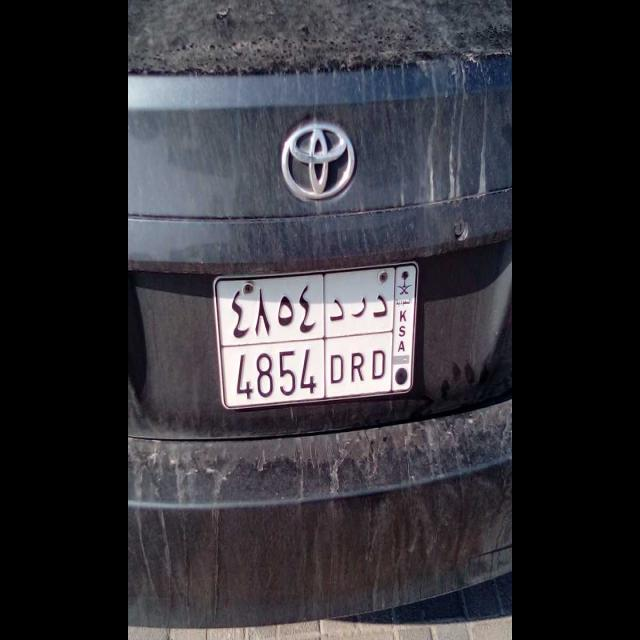license_plate: (220, 336, 392, 408)
